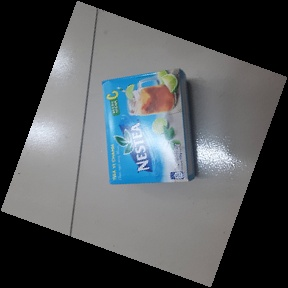Nestea: (101, 69, 197, 185)
